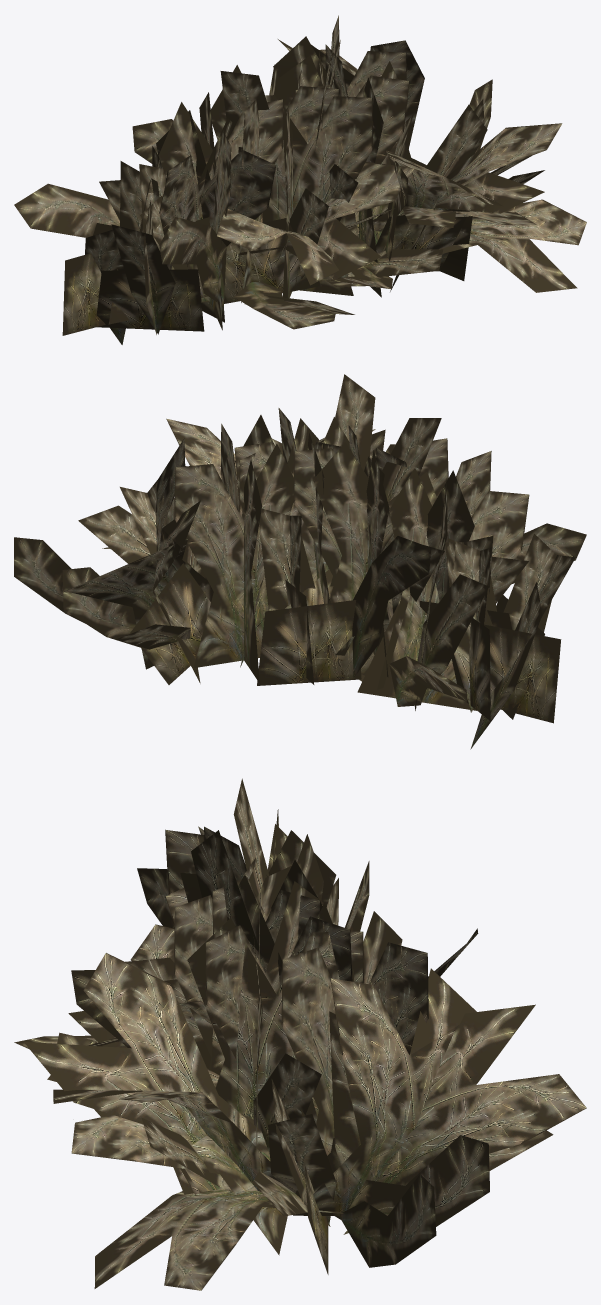
The model's file is Weed02.FBX.
3 renders of one model, top to bottom at view 1: azimuth 30°, elevation 25°; view 2: azimuth 150°, elevation 25°; view 3: azimuth 270°, elevation 25°, orthographic. The views are drawn at different scales.
Parts seen in each view (by area): view 1: LV_Spechia_Foliage_Weed01_PM_IJH; view 2: LV_Spechia_Foliage_Weed01_PM_IJH; view 3: LV_Spechia_Foliage_Weed01_PM_IJH.
Boxes of the visible parts, x1,y1,x2,y2 form: LV_Spechia_Foliage_Weed01_PM_IJH: (14, 15, 586, 344); LV_Spechia_Foliage_Weed01_PM_IJH: (14, 374, 586, 749); LV_Spechia_Foliage_Weed01_PM_IJH: (14, 778, 586, 1290).
Size of the model in its own units: 124 by 72.32 by 98.04.
